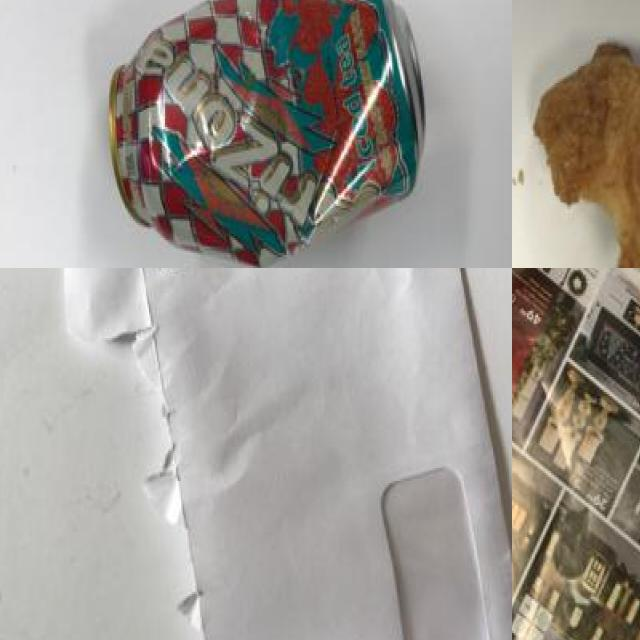compost: (512, 39, 640, 268)
paper: (127, 268, 512, 640), (512, 268, 640, 640)
plastic: (103, 0, 430, 268)
